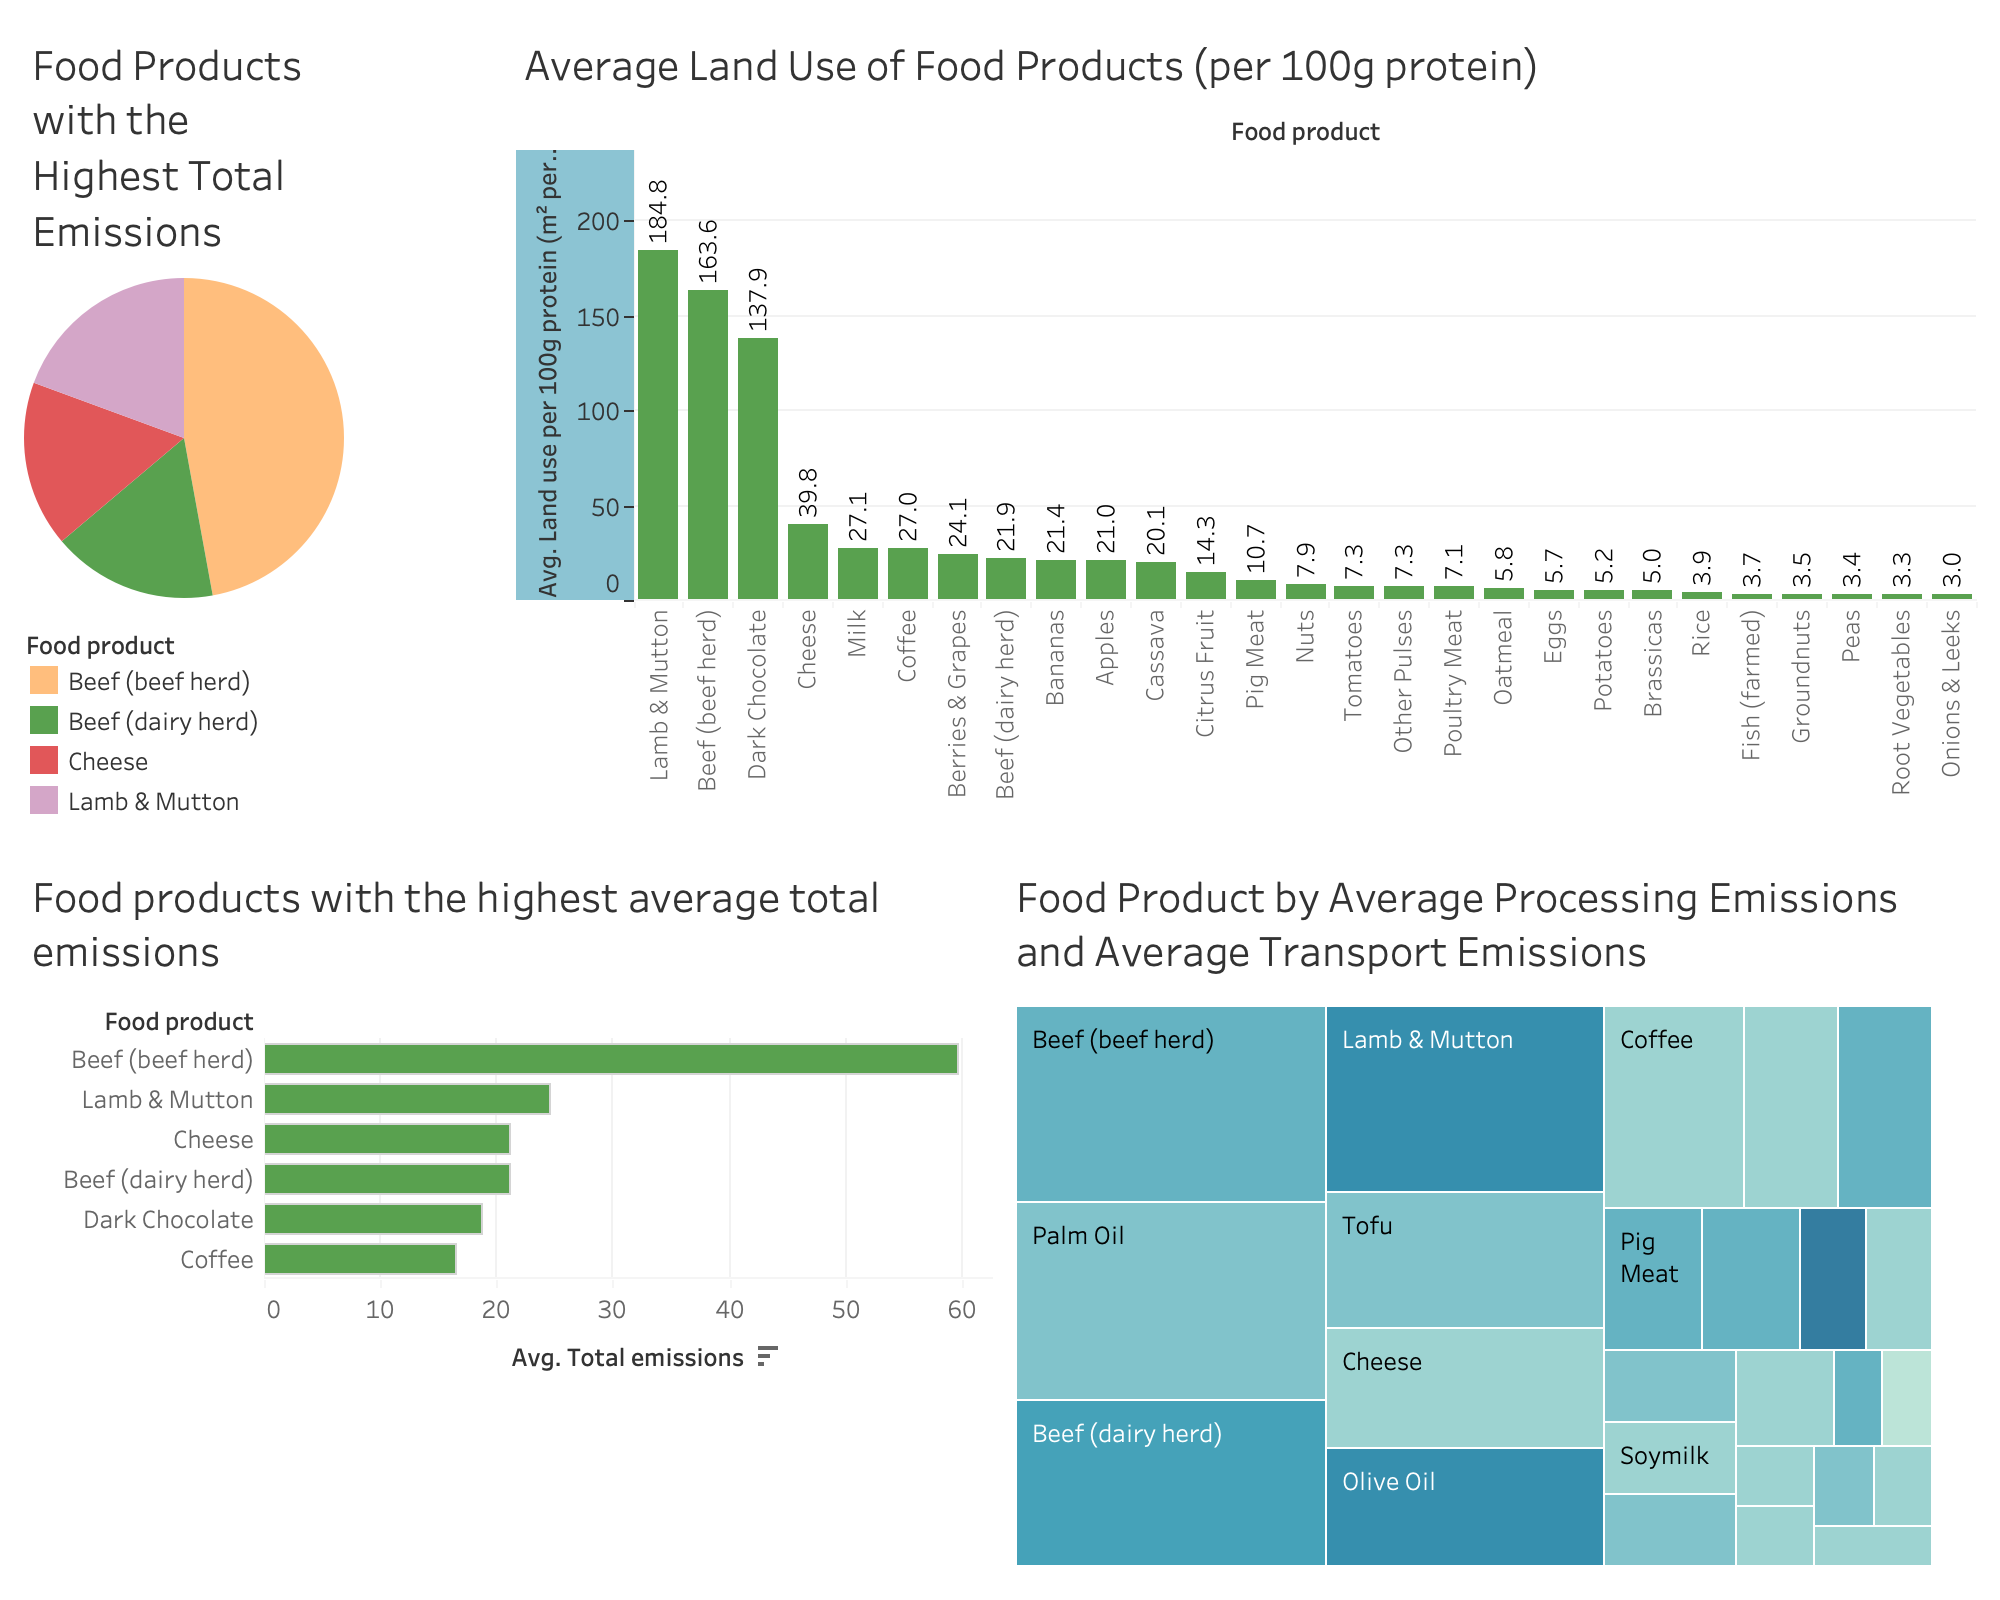

The page's visual inventory and layout, read from the dashboard file:
{"tool":"tableau","page":{"name":"Dashboard 1","canvas":[1000,800],"ordinal":0},"visuals":[{"type":"worksheet","title":"Sheet 5","mark":"Pie","box":[8,8,246,300]},{"type":"worksheet","title":"Sheet 1","mark":"Automatic","rows":["Land use per 100g protein (m² per 100g protein)"],"cols":["Food product"],"box":[254,8,738,416]},{"type":"legend","title":"Sheet 5","param":"[federated.1k4dmxo17ysly416nixzb0zkko87].[none:Food product:nk]","box":[8,308,246,116]},{"type":"worksheet","title":"Sheet 3","mark":"Automatic","rows":["Food product"],"cols":["Total_emissions"],"box":[8,424,492,368]},{"type":"worksheet","title":"Sheet 4","mark":"Automatic","box":[500,424,492,368]}]}

Visuals, with their boxes in screenshot pixels (x1, y1, x2, y2), scaled from the page's 1000x800 canvas onto the 2000x1600 screenshot:
"Sheet 5" worksheet (Pie marks): box=[16, 16, 508, 616]
"Sheet 1" worksheet: box=[508, 16, 1984, 848]
"Sheet 5" legend: box=[16, 616, 508, 848]
"Sheet 3" worksheet: box=[16, 848, 1000, 1584]
"Sheet 4" worksheet: box=[1000, 848, 1984, 1584]
